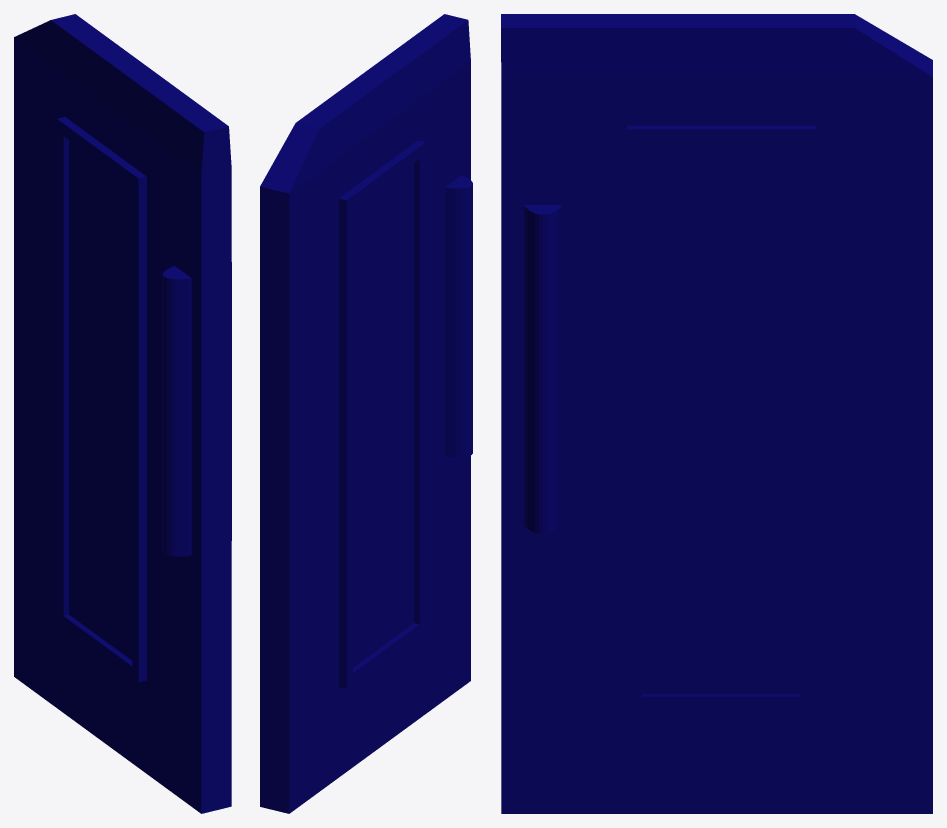
File: MansionDoor.fbx
The picture shows the model from 3 angles, left to right: view 1: azimuth 30°, elevation 25°; view 2: azimuth 150°, elevation 25°; view 3: azimuth 270°, elevation 25°; orthographic projection. The views are drawn at different scales.
Visible parts, largest first — view 1: RightDoor; view 2: RightDoor; view 3: RightDoor.
Part boxes in pixels (bbox=[...]): RightDoor: bbox=[14, 14, 231, 813]; RightDoor: bbox=[260, 14, 472, 813]; RightDoor: bbox=[501, 14, 932, 813].
Bounding box in the file's own units: 41.08 × 401 × 200.
